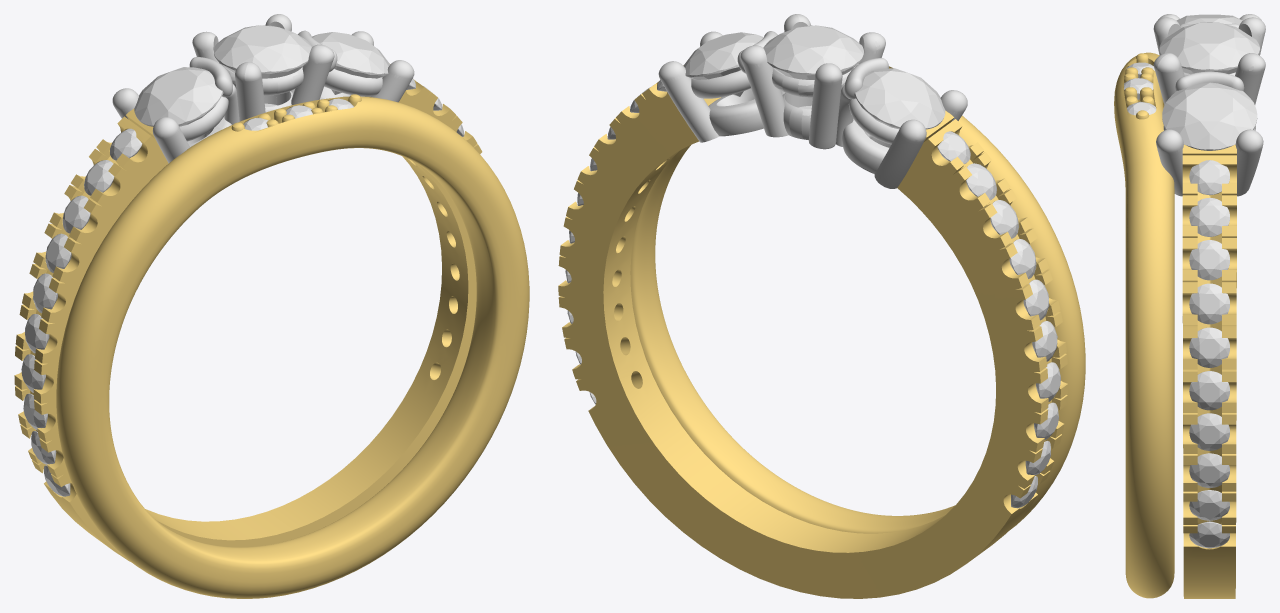
File: LuDiaBOTH.glb
The picture shows the model from 3 angles, left to right: view 1: azimuth 30°, elevation 25°; view 2: azimuth 150°, elevation 25°; view 3: azimuth 270°, elevation 25°; orthographic projection. The views are drawn at different scales.
Visible parts, largest first — view 1: v2 Lu YG wb both stones for 3d model, v2 Lu YG wb both stones for 3d model.018, v2 Lu dia both wb for 3d model.013, v2 Lu dia both wb for 3d model.014, v2 Lu dia both wb for 3d model.025, v2 Lu YG wb both stones for 3d model.013, v2 Lu YG wb both stones for 3d model.014, v2 Lu YG wb both stones for 3d model.011, v2 Lu YG wb both stones for 3d model.029, v2 Lu YG wb both stones for 3d model.032, v2 Lu YG wb both stones for 3d model.021, v2 Lu YG wb both stones for 3d model.017 (+6 smaller); view 2: v2 Lu YG wb both stones for 3d model.018, v2 Lu YG wb both stones for 3d model, v2 Lu dia both wb for 3d model.013, v2 Lu dia both wb for 3d model.014, v2 Lu YG wb both stones for 3d model.012, v2 Lu YG wb both stones for 3d model.015, v2 Lu dia both wb for 3d model.025, v2 Lu YG wb both stones for 3d model.031, v2 Lu YG wb both stones for 3d model.030, v2 Lu YG wb both stones for 3d model.019, v2 Lu YG wb both stones for 3d model.020, v2 Lu YG wb both stones for 3d model.011 (+9 smaller); view 3: v2 Lu YG wb both stones for 3d model, v2 Lu YG wb both stones for 3d model.018, v2 Lu dia both wb for 3d model.025, v2 Lu dia both wb for 3d model.014, v2 Lu YG wb both stones for 3d model.031, v2 Lu dia both wb for 3d model.018, v2 Lu dia both wb for 3d model.017, v2 Lu dia both wb for 3d model.019, v2 Lu dia both wb for 3d model.020, v2 Lu YG wb both stones for 3d model.032, v2 Lu dia both wb for 3d model.016, v2 Lu dia both wb for 3d model.021 (+12 smaller).
Boxes of the visible parts, left/top/right/bottom form: v2 Lu YG wb both stones for 3d model: left=56, top=96, right=529, bottom=598; v2 Lu YG wb both stones for 3d model.018: left=14, top=80, right=482, bottom=561; v2 Lu dia both wb for 3d model.013: left=134, top=67, right=223, bottom=126; v2 Lu dia both wb for 3d model.014: left=214, top=25, right=311, bottom=78; v2 Lu dia both wb for 3d model.025: left=312, top=32, right=389, bottom=94; v2 Lu YG wb both stones for 3d model.013: left=291, top=44, right=334, bottom=104; v2 Lu YG wb both stones for 3d model.014: left=235, top=62, right=265, bottom=121; v2 Lu YG wb both stones for 3d model.011: left=324, top=69, right=382, bottom=96; v2 Lu YG wb both stones for 3d model.029: left=152, top=117, right=190, bottom=163; v2 Lu YG wb both stones for 3d model.032: left=370, top=60, right=414, bottom=102; v2 Lu YG wb both stones for 3d model.021: left=179, top=96, right=228, bottom=141; v2 Lu YG wb both stones for 3d model.017: left=219, top=62, right=303, bottom=95; v2 Lu YG wb both stones for 3d model.018: left=558, top=65, right=1068, bottom=598; v2 Lu YG wb both stones for 3d model: left=630, top=66, right=1085, bottom=533; v2 Lu dia both wb for 3d model.013: left=854, top=68, right=945, bottom=129; v2 Lu dia both wb for 3d model.014: left=763, top=25, right=863, bottom=79; v2 Lu YG wb both stones for 3d model.012: left=740, top=45, right=788, bottom=137; v2 Lu YG wb both stones for 3d model.015: left=808, top=63, right=842, bottom=149; v2 Lu dia both wb for 3d model.025: left=683, top=32, right=763, bottom=96; v2 Lu YG wb both stones for 3d model.031: left=658, top=61, right=719, bottom=142; v2 Lu YG wb both stones for 3d model.030: left=874, top=119, right=926, bottom=188; v2 Lu YG wb both stones for 3d model.019: left=708, top=88, right=763, bottom=136; v2 Lu YG wb both stones for 3d model.020: left=842, top=119, right=890, bottom=173; v2 Lu YG wb both stones for 3d model.011: left=691, top=70, right=750, bottom=98; v2 Lu YG wb both stones for 3d model: left=1114, top=52, right=1174, bottom=598; v2 Lu YG wb both stones for 3d model.018: left=1182, top=144, right=1236, bottom=598; v2 Lu dia both wb for 3d model.025: left=1162, top=82, right=1257, bottom=150; v2 Lu dia both wb for 3d model.014: left=1159, top=22, right=1259, bottom=74; v2 Lu YG wb both stones for 3d model.031: left=1235, top=129, right=1263, bottom=196; v2 Lu dia both wb for 3d model.018: left=1189, top=283, right=1229, bottom=324; v2 Lu dia both wb for 3d model.017: left=1189, top=240, right=1229, bottom=280; v2 Lu dia both wb for 3d model.019: left=1189, top=327, right=1229, bottom=367; v2 Lu dia both wb for 3d model.020: left=1189, top=371, right=1229, bottom=410; v2 Lu YG wb both stones for 3d model.032: left=1156, top=129, right=1183, bottom=196; v2 Lu dia both wb for 3d model.016: left=1189, top=197, right=1229, bottom=236; v2 Lu dia both wb for 3d model.021: left=1189, top=413, right=1229, bottom=450.
Bounding box in the file's own units: 20.37 × 21.93 × 5.59.
